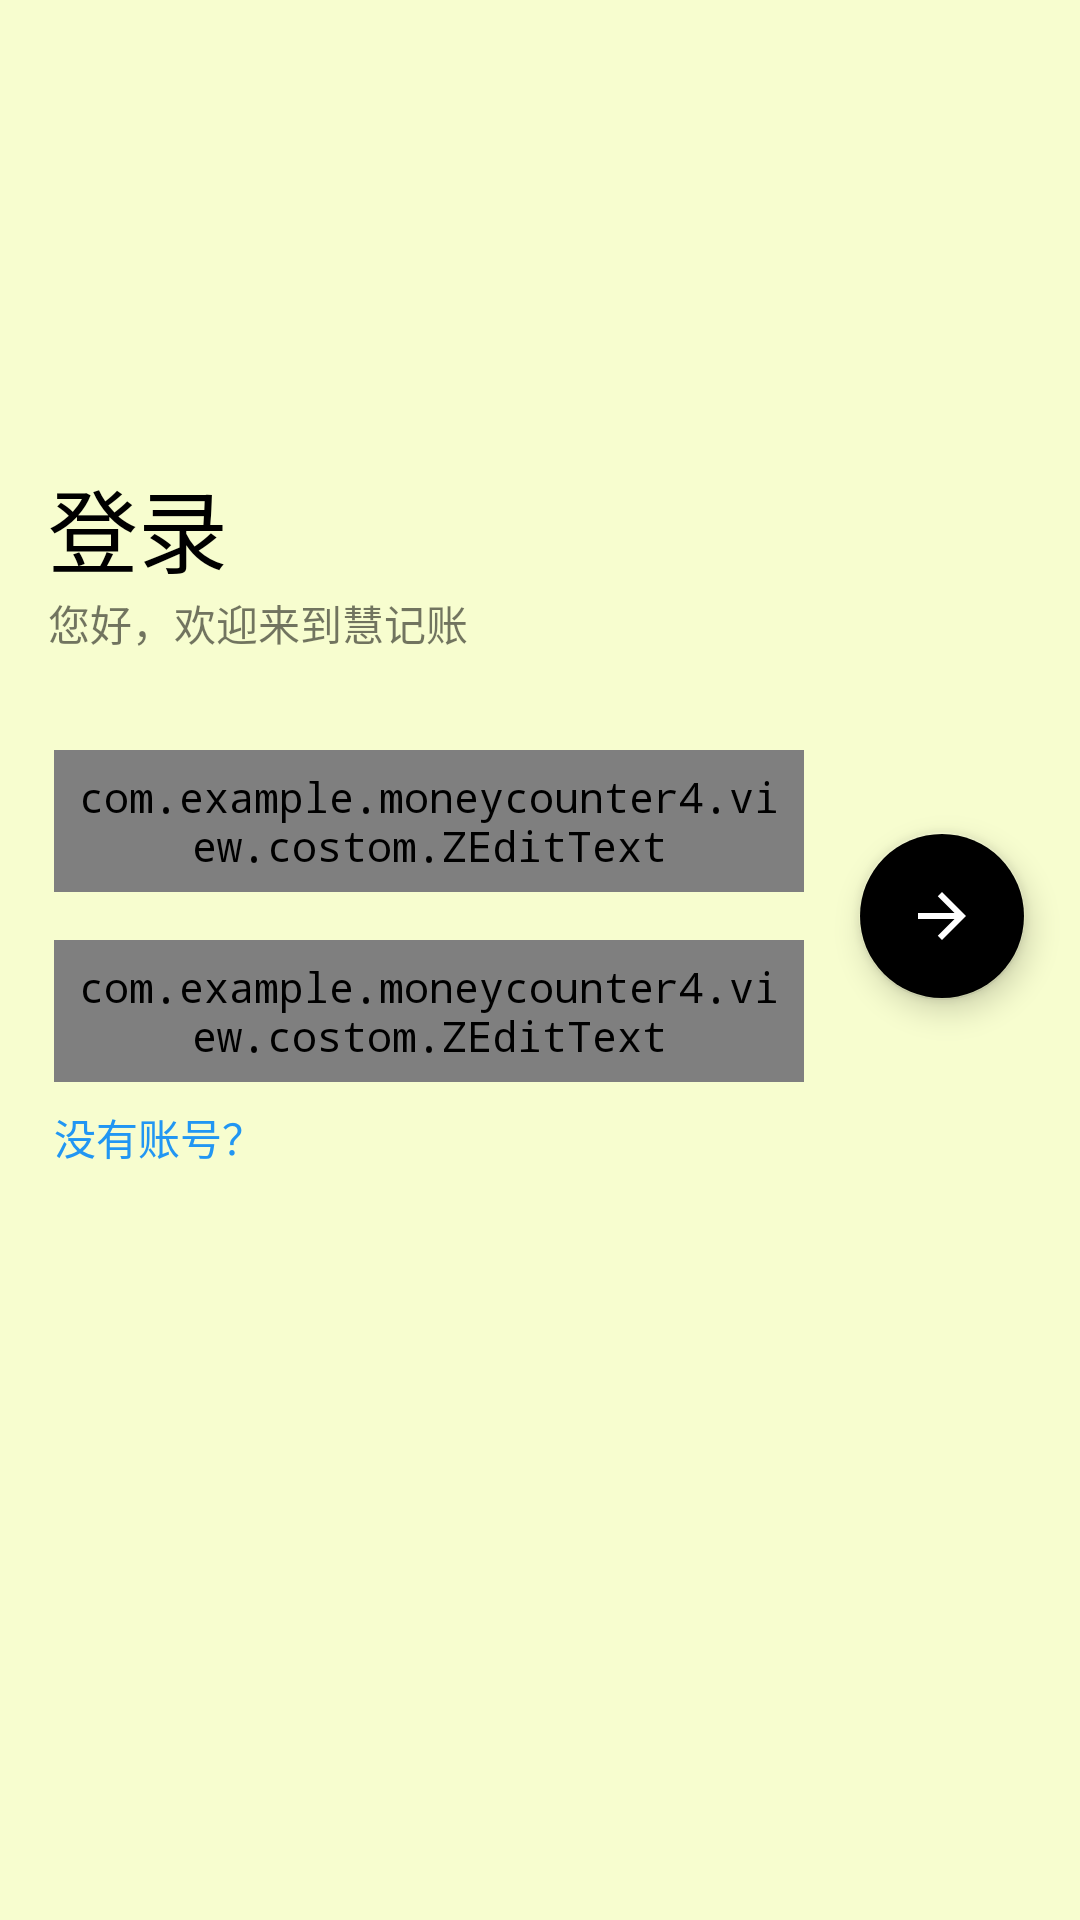

Icon click points for this 1080px x 1920px phone screenshot, format point (x, y):
arrow forward: point (943, 917)
